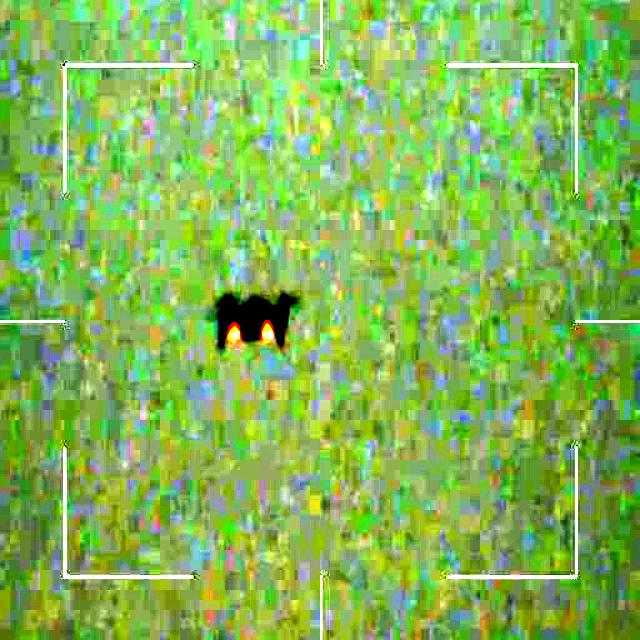bird: (211, 289, 301, 344)
